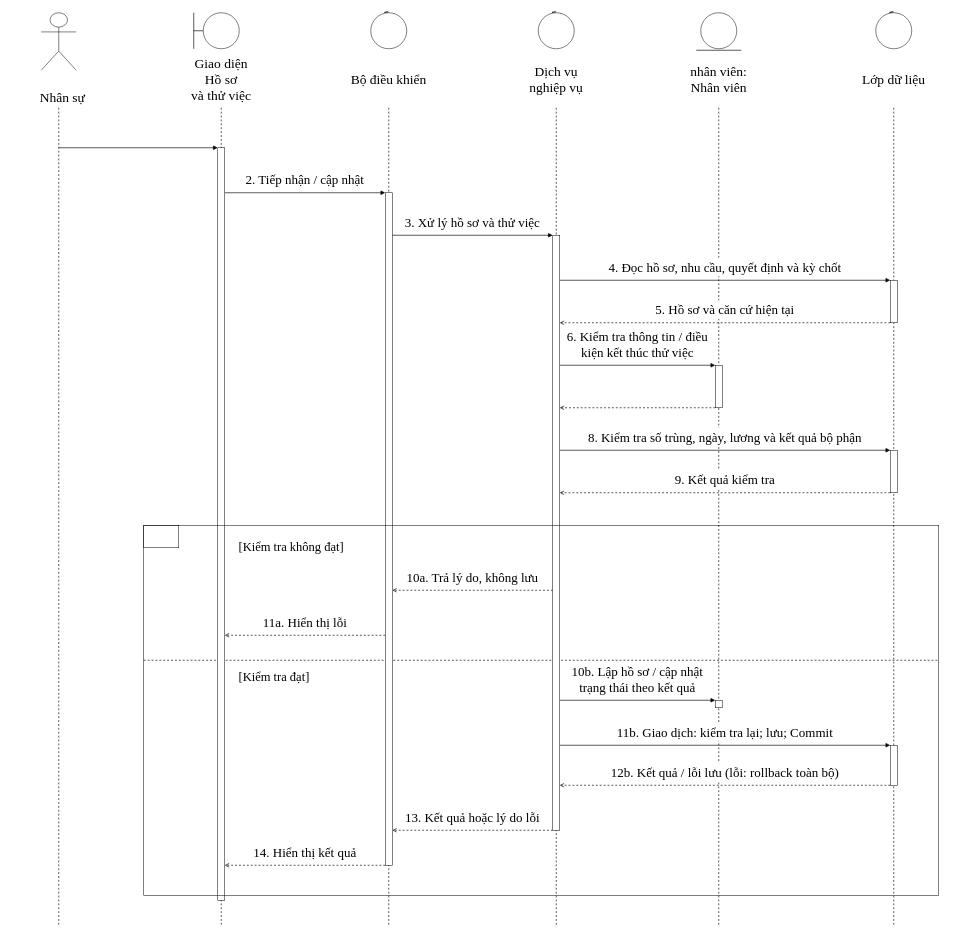
The diagram is 970 pixels wide and 935 high, and some of its shapes have lost their labels. Here are the shapes that lost their labels. From the top down, the box of each, then its label:
(64, 110, 212, 144): 1. Nhập hồ sơ / ghi kết quả thử việc
(564, 385, 710, 404): 7. Thông tin hợp lệ
(143, 525, 179, 548): alt
